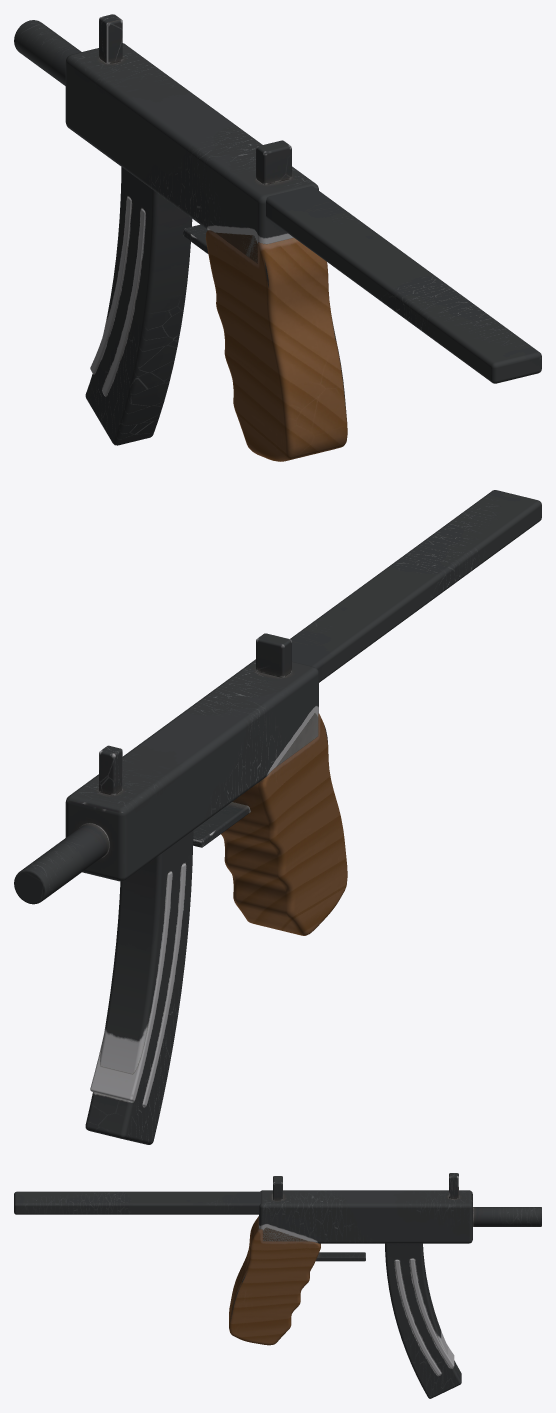
The model's file is skorpion.gltf.
3 views of the same model, one above another, from view 1: azimuth 30°, elevation 25°; view 2: azimuth 150°, elevation 25°; view 3: azimuth 270°, elevation 25° (orthographic). The views are drawn at different scales.
Parts seen in each view (by area): view 1: Frame, Mag_body, Stock; view 2: Frame, Mag_body, Stock; view 3: Frame, Mag_body, Stock.
Boxes of the visible parts, x1=… form: Frame: x1=14, y1=14, x2=347, y2=461; Mag_body: x1=85, y1=167, x2=192, y2=445; Stock: x1=266, y1=186, x2=541, y2=383; Frame: x1=14, y1=633, x2=347, y2=935; Mag_body: x1=85, y1=830, x2=193, y2=1144; Stock: x1=290, y1=490, x2=541, y2=682; Frame: x1=229, y1=1173, x2=541, y2=1345; Mag_body: x1=385, y1=1243, x2=461, y2=1398; Stock: x1=14, y1=1191, x2=260, y2=1214.
Size of the model in its own units: 0.03 by 0.1928 by 0.42.
3 materials, 3 textured.
